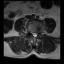CCS_normal: (33, 30, 35, 39)
LFS_severe_stenosis: (38, 30, 40, 35)
LLS_normal: (35, 31, 38, 37)
RFS_stenosis: (29, 29, 31, 35)
RLS_normal: (31, 30, 33, 37)
